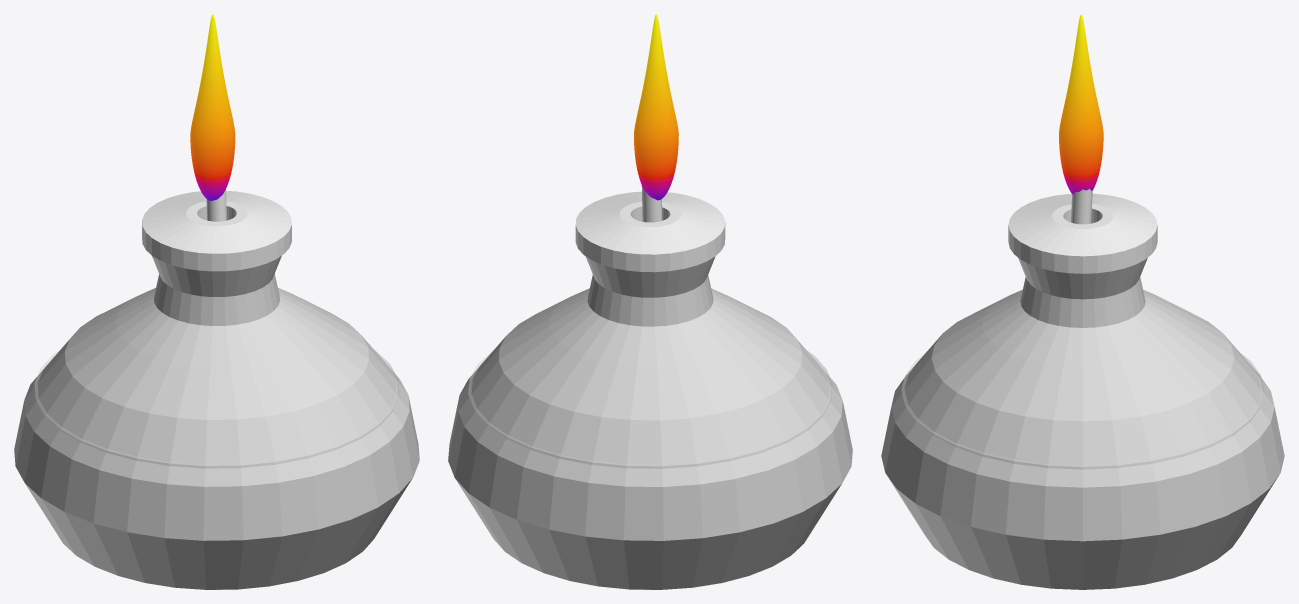
File: den_con.glb
3 renders of one model, left to right at view 1: azimuth 30°, elevation 25°; view 2: azimuth 150°, elevation 25°; view 3: azimuth 270°, elevation 25°, orthographic.
Visible parts, largest first — view 1: den_con, den_con.002, GLB_Flame_V260, den_con.001; view 2: den_con, den_con.002, GLB_Flame_V260, den_con.001, knot.001; view 3: den_con, den_con.002, GLB_Flame_V260, den_con.001, knot.001.
Boxes of the visible parts, x1,y1,x2,y2 form: den_con: [14, 255, 419, 589]; den_con.002: [142, 190, 291, 271]; GLB_Flame_V260: [190, 14, 235, 200]; den_con.001: [34, 350, 399, 468]; den_con: [448, 256, 852, 589]; den_con.002: [575, 191, 725, 272]; GLB_Flame_V260: [634, 14, 678, 200]; den_con.001: [468, 351, 832, 468]; knot.001: [641, 185, 662, 222]; den_con: [881, 258, 1284, 589]; den_con.002: [1008, 193, 1157, 273]; GLB_Flame_V260: [1059, 14, 1103, 194]; den_con.001: [901, 354, 1264, 469]; knot.001: [1071, 189, 1092, 224].
Size of the model in its own units: 0.0955 by 0.1426 by 0.0955.
